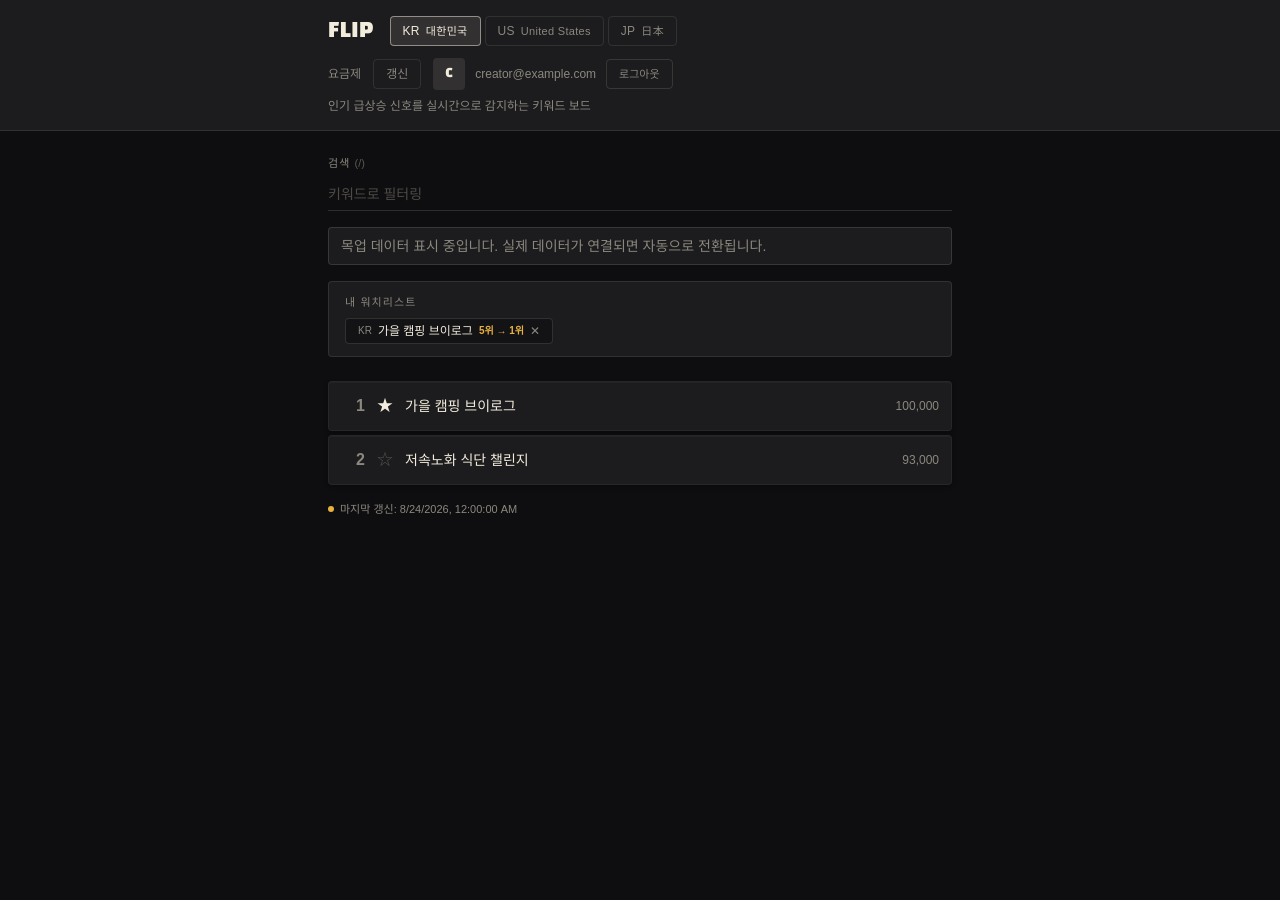
Test: Home dashboard › watchlist rank-change notifications › acknowledges a watchlisted keyword's rank when its detail is viewed, updating the badge without a reload
Expected: the text "5위 → 1위" is shown, [479, 324, 524, 338]
Click the button with aria-label "가을 캠핑 브이로그 상세 보기". click: (441,331)
box: [358, 323, 524, 339]
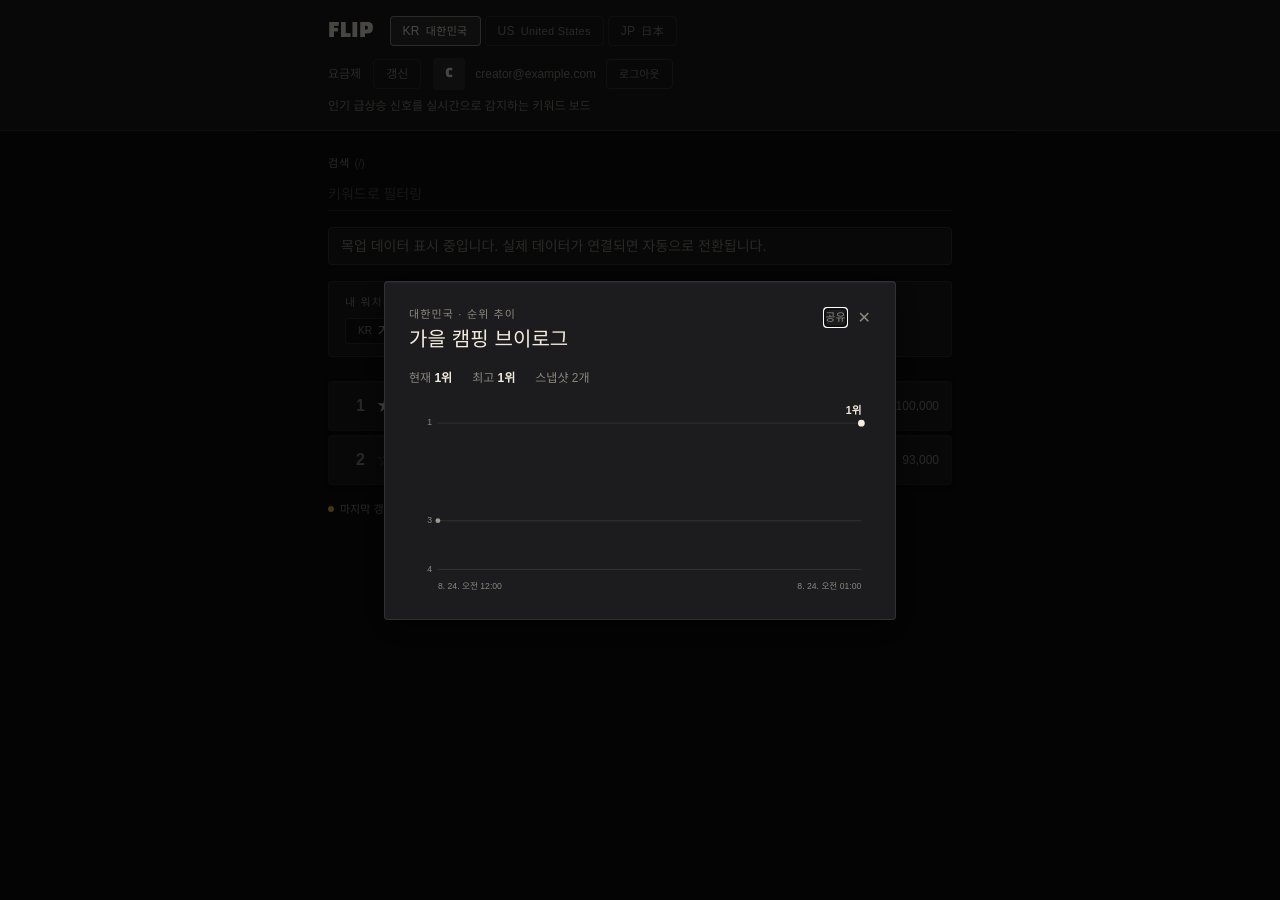
Expected: the text "1위" below "내 워치리스트" is shown, [479, 324, 494, 338]
Now the dialog named "가을 캠핑 브이로그 순위 추이" is shown
Now the button "5위 → 1위" is gone
